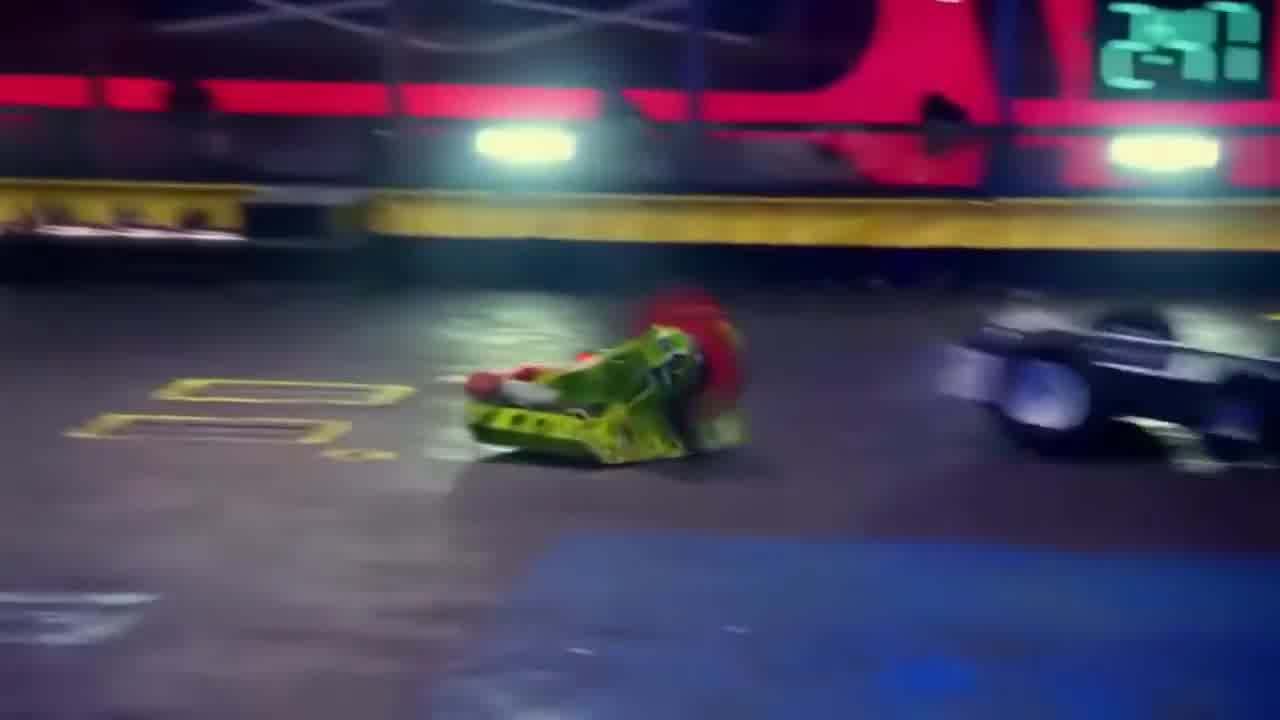combatbot: (960, 290, 1280, 464), (460, 321, 755, 473)
